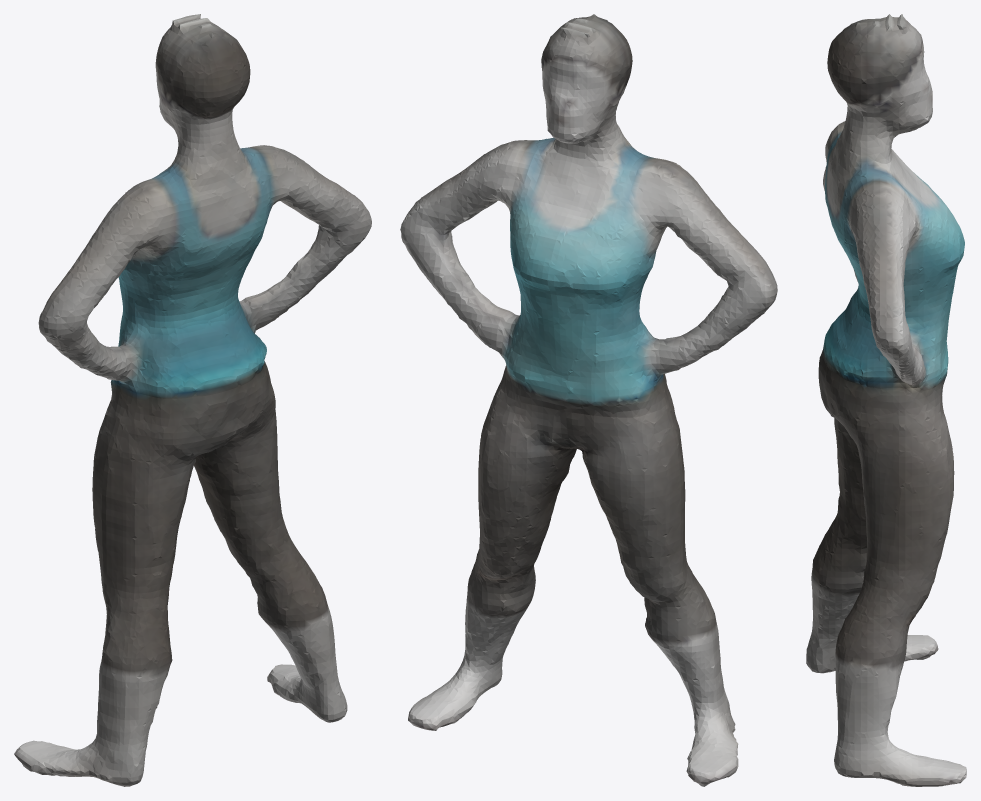
Rendered from tmpw7t1igwc.glb.
3 renders of one model, left to right at view 1: azimuth 30°, elevation 25°; view 2: azimuth 150°, elevation 25°; view 3: azimuth 270°, elevation 25°, orthographic. The views are drawn at different scales.
Parts seen in each view (by area): view 1: world; view 2: world; view 3: world.
Part boxes in pixels (bbox=[...]): world: bbox=[14, 14, 371, 786]; world: bbox=[400, 14, 777, 786]; world: bbox=[806, 14, 966, 786].
Bounding box in the file's own units: 1.03 × 2 × 0.4132.
